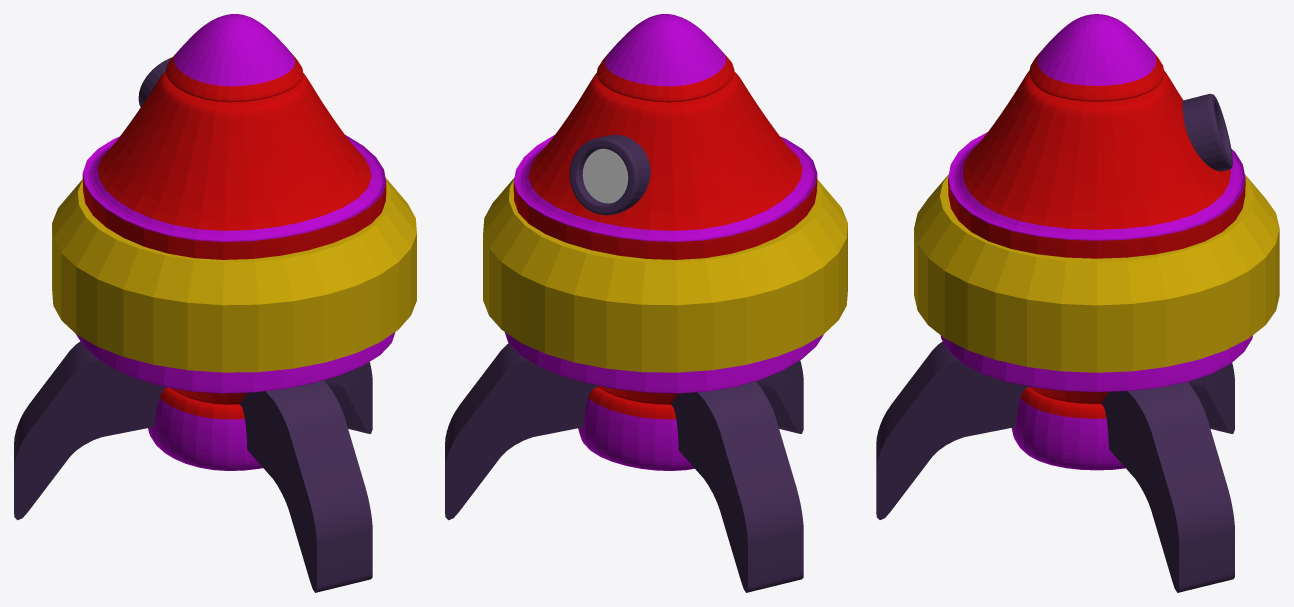
File: navicella.obj
3 views of the same model, side by side, from view 1: azimuth 30°, elevation 25°; view 2: azimuth 150°, elevation 25°; view 3: azimuth 270°, elevation 25° (orthographic).
Parts seen in each view (by area): view 1: navicella, navicella_base, ala.002, ala, ala.001, oblo; view 2: navicella, navicella_base, ala, ala.001, oblo, ala.002; view 3: navicella, navicella_base, ala.001, ala.002, oblo, ala.
Boxes of the visible parts, bbox=[...] form: navicella: bbox=[76, 14, 395, 470]; navicella_base: bbox=[52, 178, 416, 372]; ala.002: bbox=[240, 380, 372, 592]; ala: bbox=[14, 341, 166, 520]; ala.001: bbox=[324, 362, 372, 433]; oblo: bbox=[138, 57, 171, 106]; navicella: bbox=[504, 14, 823, 470]; navicella_base: bbox=[483, 177, 847, 372]; ala: bbox=[671, 381, 803, 592]; ala.001: bbox=[445, 343, 597, 520]; oblo: bbox=[569, 134, 650, 215]; ala.002: bbox=[756, 360, 803, 433]; navicella: bbox=[940, 14, 1252, 470]; navicella_base: bbox=[914, 174, 1279, 372]; ala.001: bbox=[1101, 382, 1234, 592]; ala.002: bbox=[876, 341, 1029, 519]; oblo: bbox=[1182, 93, 1232, 171]; ala: bbox=[1188, 363, 1234, 433].
Bounding box in the file's own units: 5.28 × 6.88 × 5.14.
